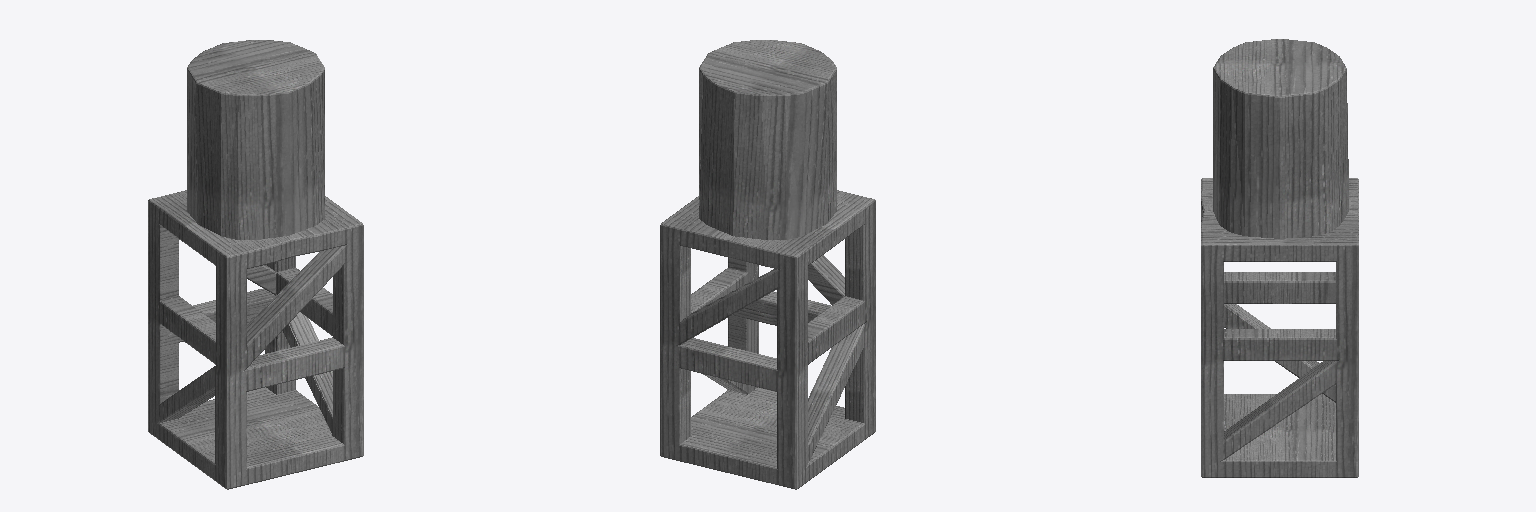
3 renders of one model, left to right at view 1: azimuth 30°, elevation 25°; view 2: azimuth 150°, elevation 25°; view 3: azimuth 270°, elevation 25°, orthographic.
Visible parts, largest first — view 1: pCube4; view 2: pCube4; view 3: pCube4.
Boxes of the visible parts, x1,y1,x2,y2 form: pCube4: [148, 40, 363, 489]; pCube4: [660, 40, 875, 489]; pCube4: [1201, 39, 1358, 477].
Size of the model in its own units: 400 by 1051 by 400.
1 materials, 1 textured.